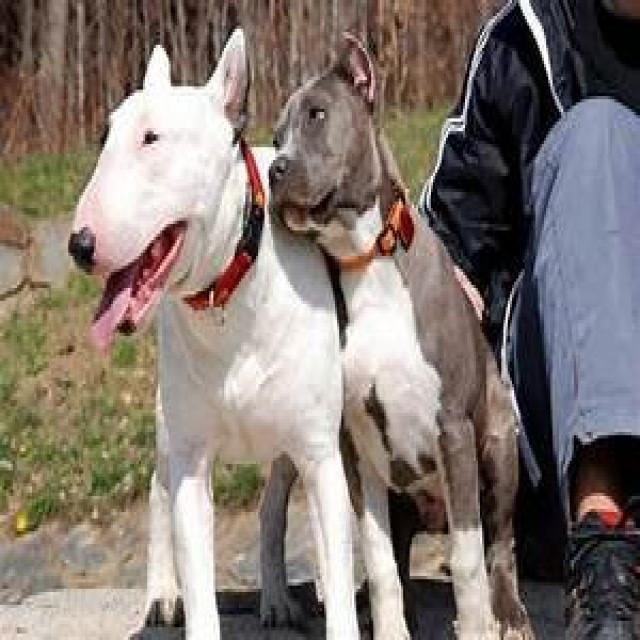dog: (68, 32, 356, 640), (265, 51, 525, 640)
